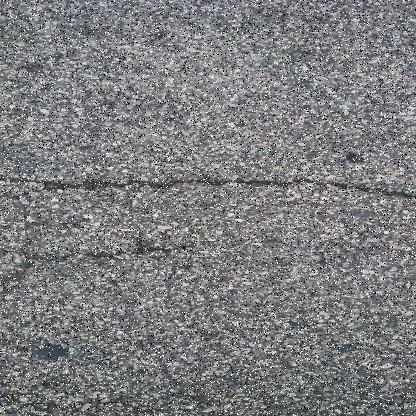Cracks: (0, 163, 416, 204), (0, 240, 198, 266)
